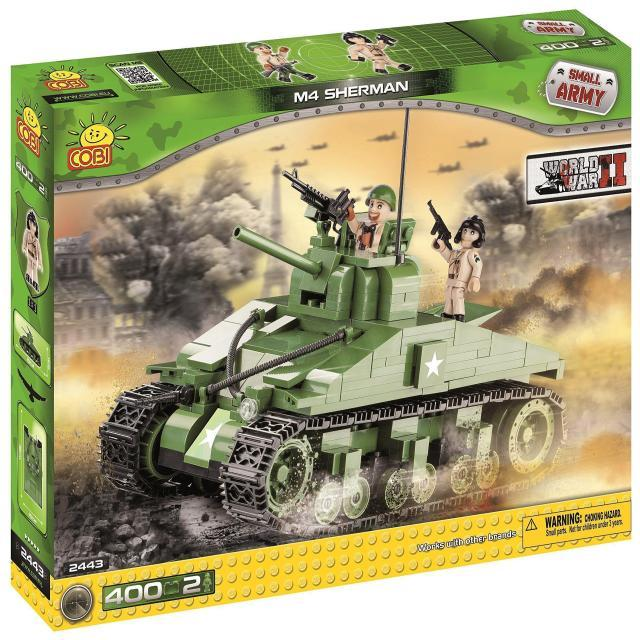MIL_MBT: (101, 197, 554, 488)
